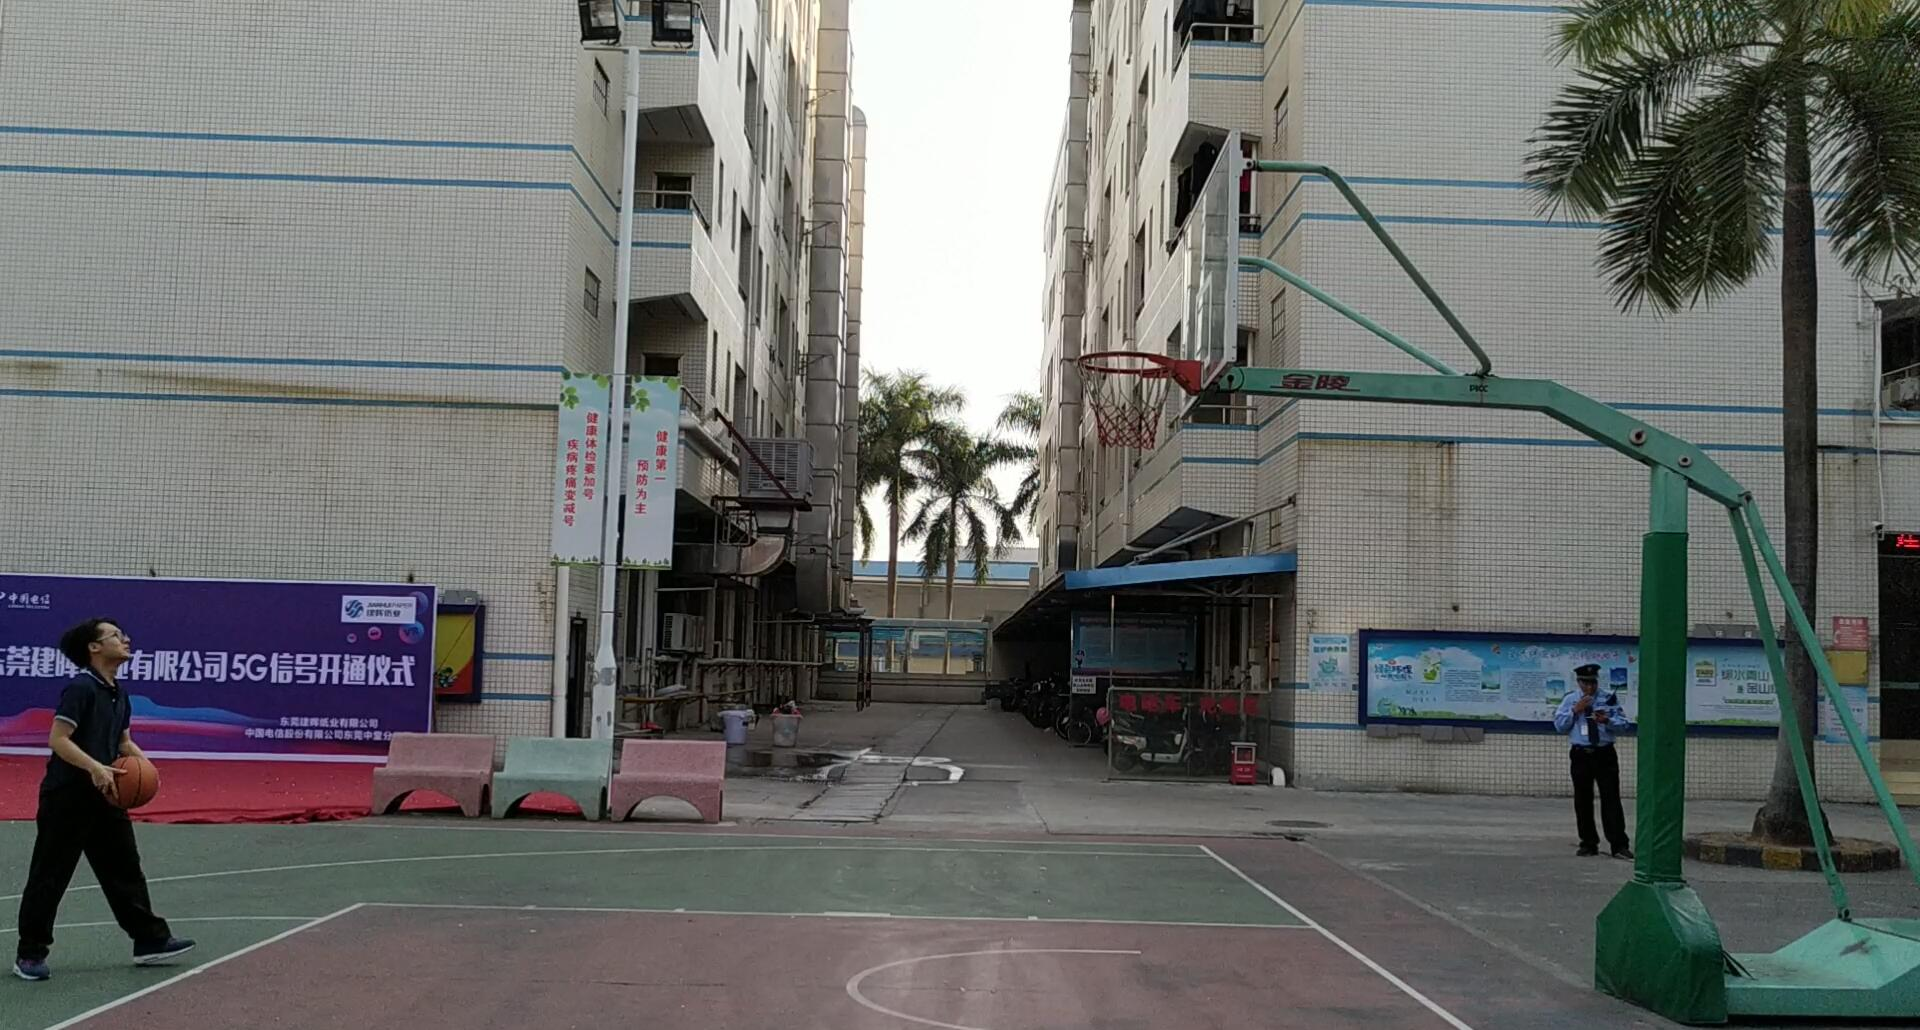basketball: (102, 749, 163, 813)
